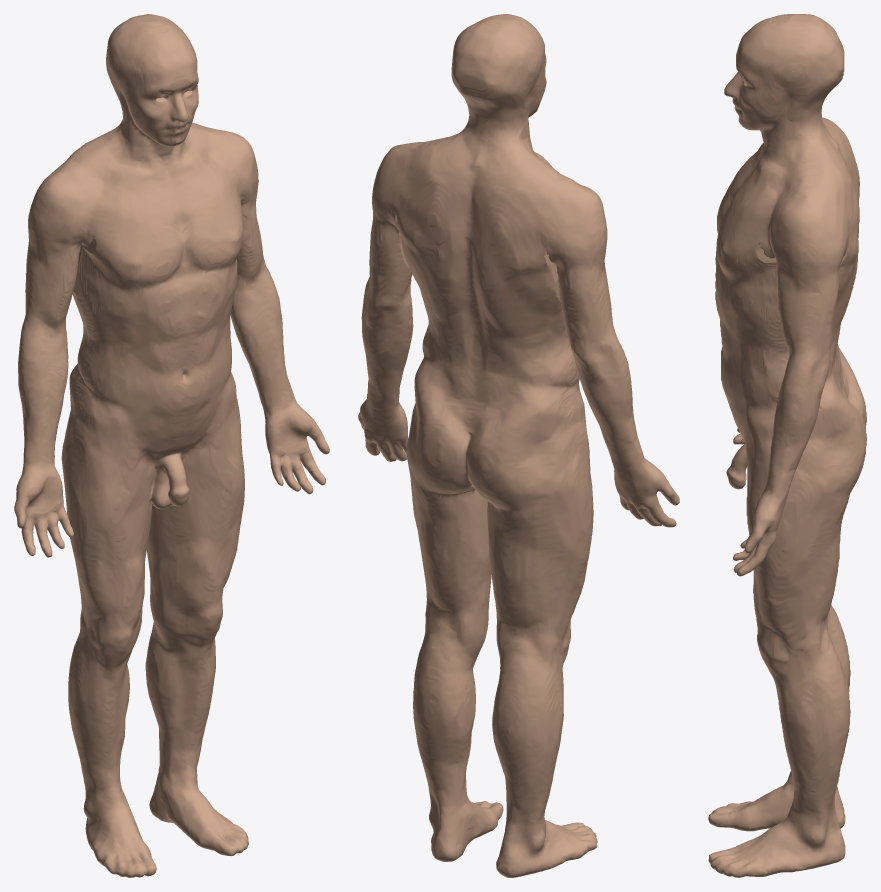
The model's file is skin-atlas-web.glb.
3 renders of one model, left to right at view 1: azimuth 30°, elevation 25°; view 2: azimuth 150°, elevation 25°; view 3: azimuth 270°, elevation 25°, orthographic. The views are drawn at different scales.
Visible parts, largest first — view 1: Atlas Skin; view 2: Atlas Skin; view 3: Atlas Skin.
Boxes of the visible parts, x1=… form: Atlas Skin: x1=14, y1=14, x2=329, y2=877; Atlas Skin: x1=358, y1=14, x2=679, y2=877; Atlas Skin: x1=708, y1=14, x2=866, y2=877.
Size of the model in its own units: 0.6809 by 1.71 by 0.2967.
